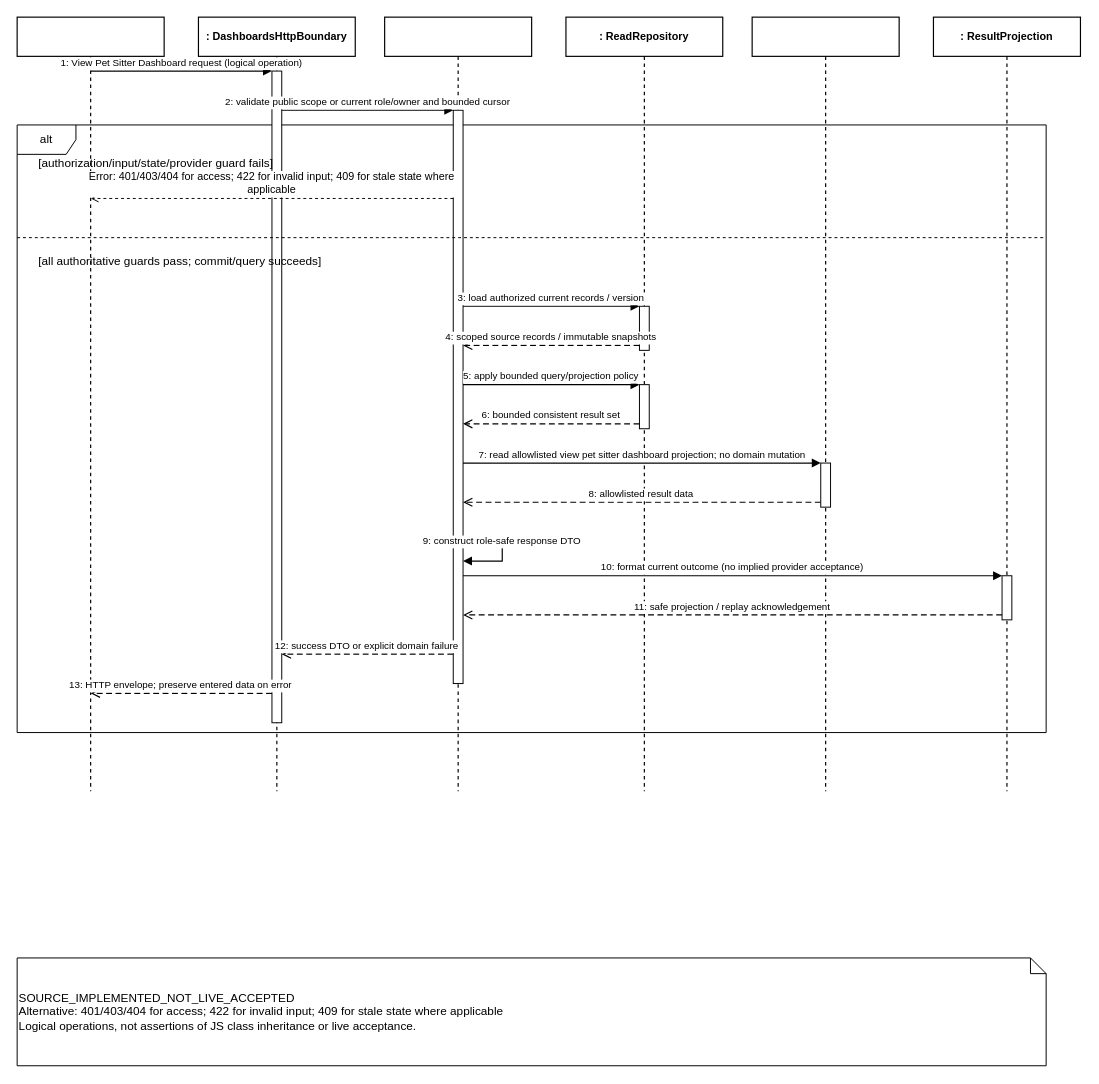
Image size: 1099x1084. Some labels were removed from this diagram. Each missing label, with the box of its shape:
: DashboardsService: (384, 16, 532, 791)
: QueryProjection: (751, 16, 899, 791)
Client (Pet Sitter): (16, 16, 164, 791)
